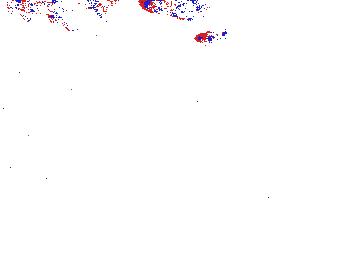X-ray fish: (32, 161, 105, 197), (160, 136, 228, 171)
red belly glassfish: (193, 28, 226, 45)
redtail glassfish: (24, 1, 116, 26), (136, 1, 212, 22)
